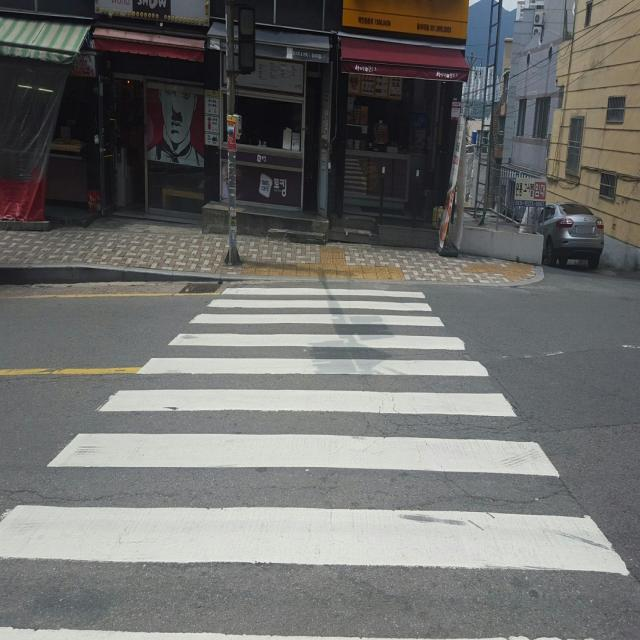횡단보도: (0, 278, 634, 640)
